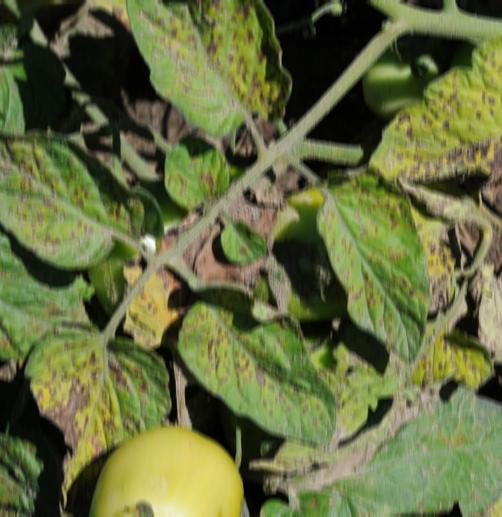Tomato Septoria leaf spot: (22, 299, 171, 499), (302, 165, 434, 364), (178, 289, 350, 436), (114, 0, 296, 138), (369, 31, 502, 195), (0, 125, 129, 268)
